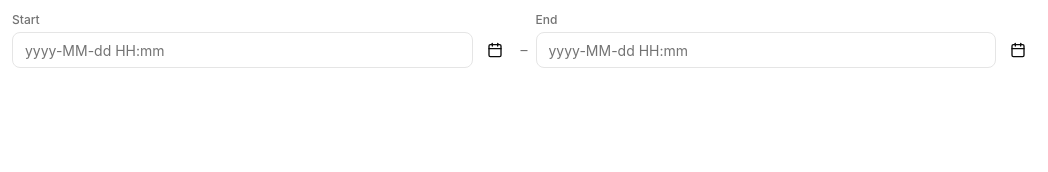
Test: DateTimeRangePicker › shows checkmark after typing in start input
Type "2025-06-15 14:30" into the field with placeholder "yyyy-MM-dd HH:mm" below "Start" at (242,50), box [12,32,472,68]
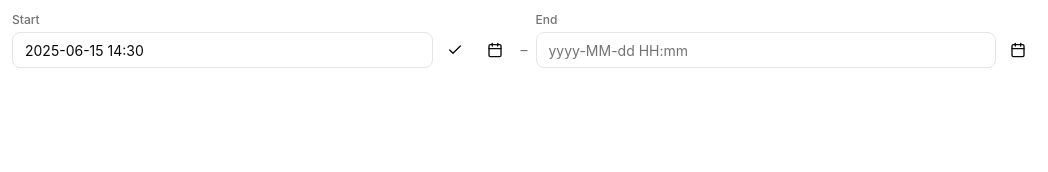
Expected: the button named "Confirm date input" is shown, [436,32,472,68]
